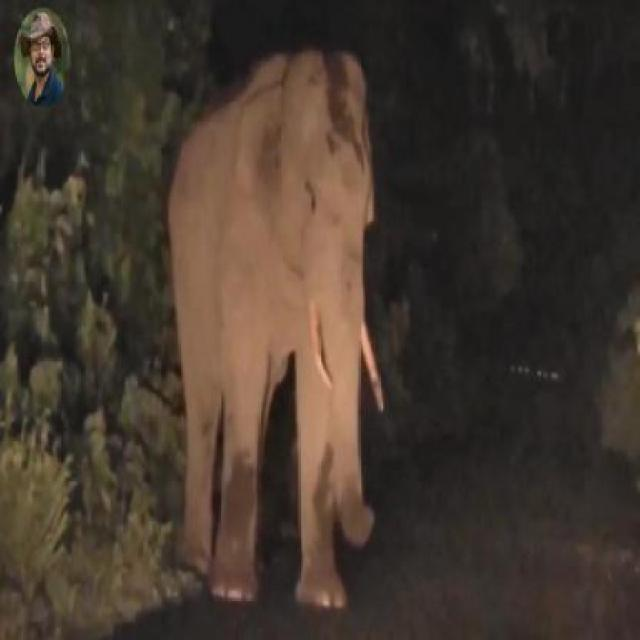Elephant: (159, 48, 384, 620)
